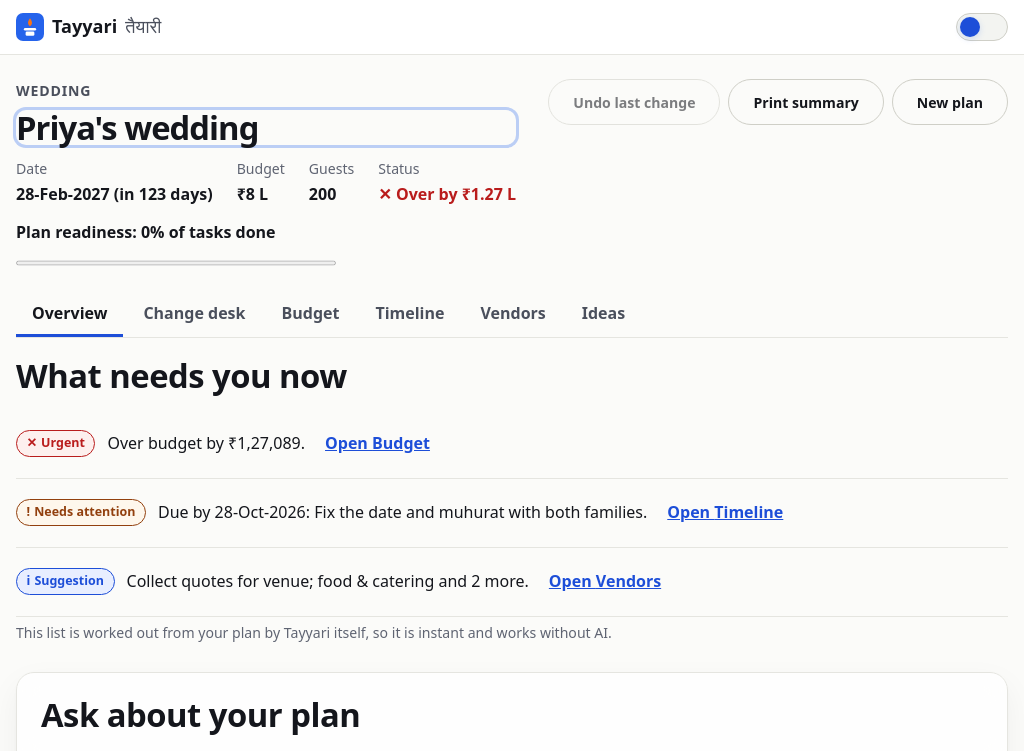
Scenario: budget tab › keeps exact options when the explanation fails, and shows quoted lines
Click the tab "Budget". click: x=310, y=314
box: left=266, top=292, right=355, bottom=337
(page scrolled)
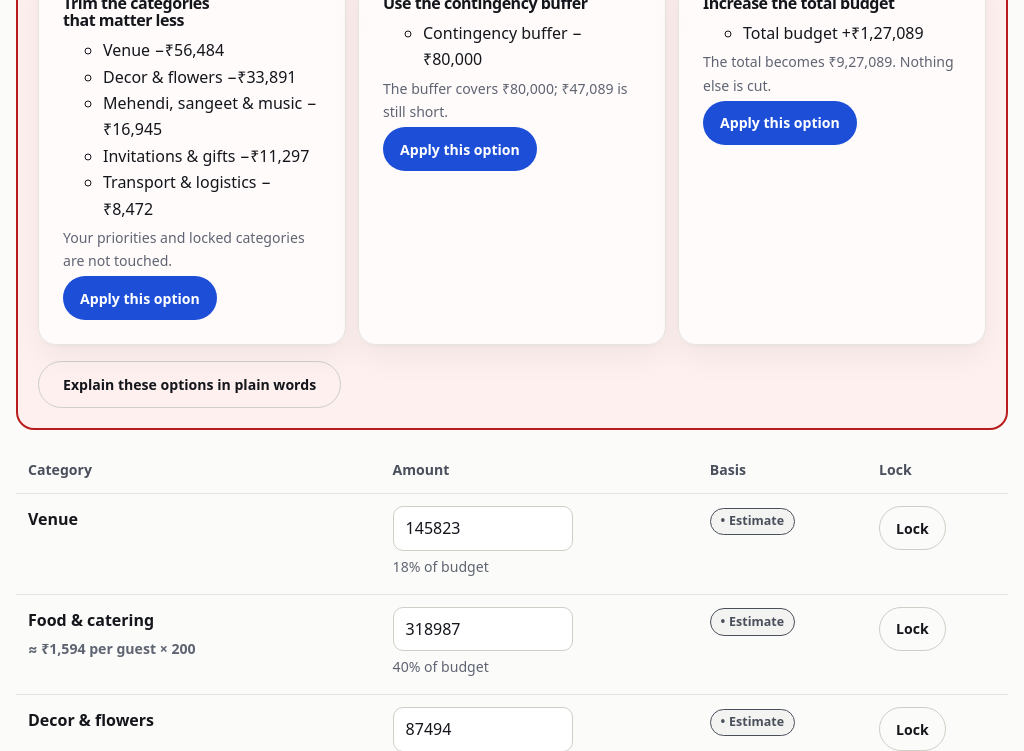
Click the button "Explain these options in plain words". click: x=190, y=385
box: left=38, top=361, right=341, bottom=408
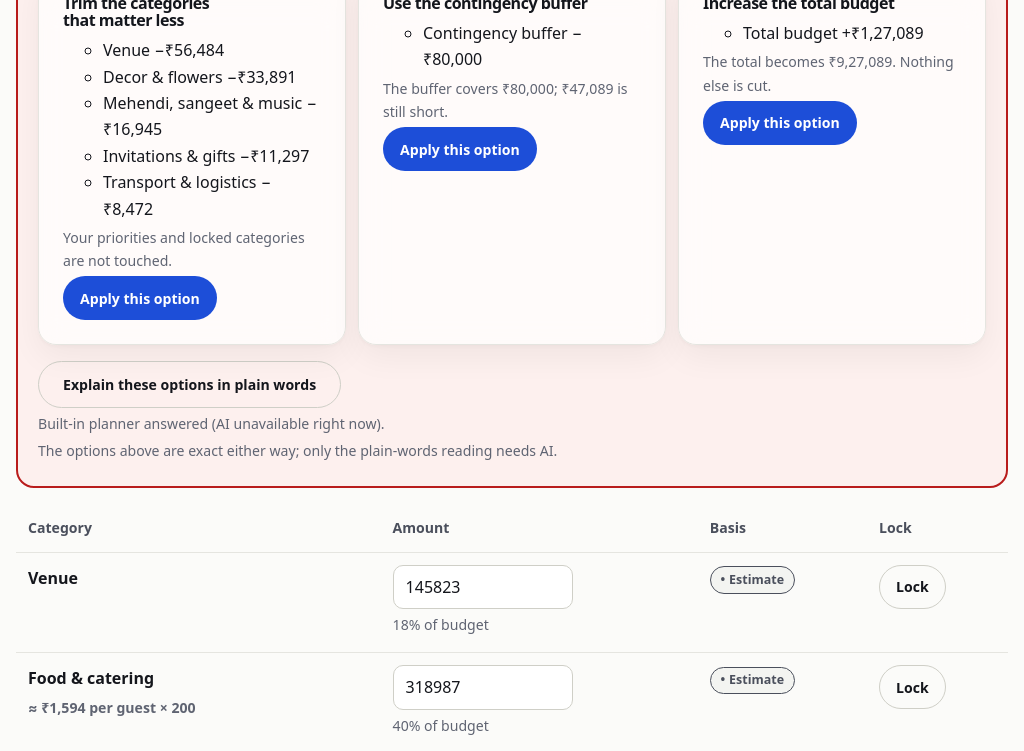
Now the text "only the plain-words reading needs AI" is shown, box left=38, top=441, right=557, bottom=460
